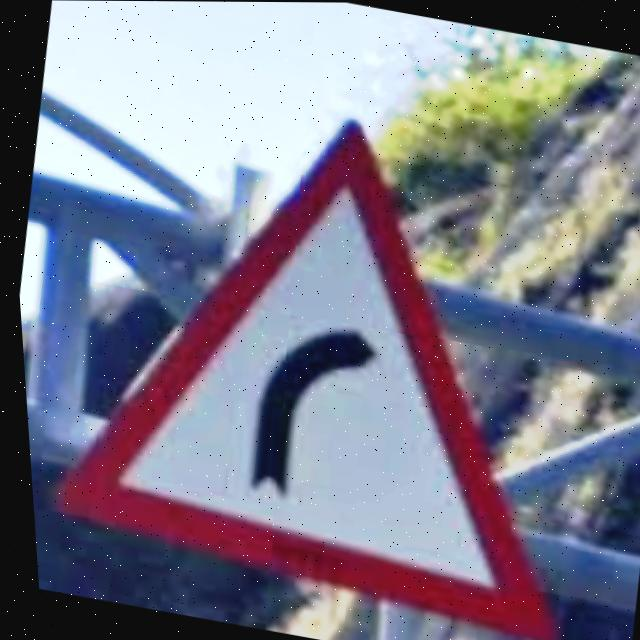rightbend: (46, 120, 550, 640)
